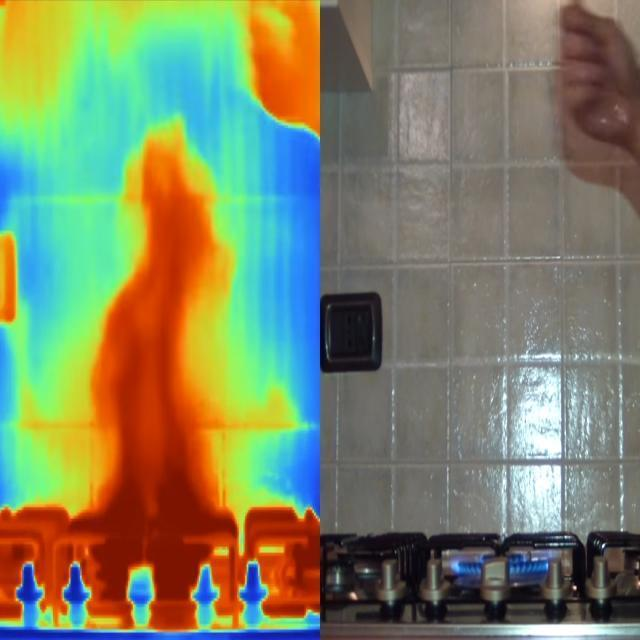fire: (78, 435, 220, 597)
